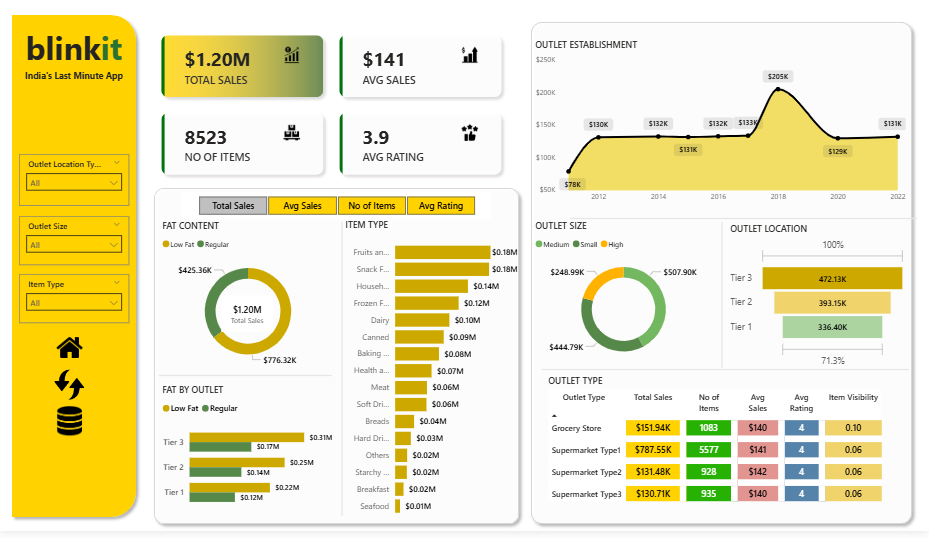

Layout of this report page (visuals, bound fields, positions):
{"tool":"powerbi","page":{"name":"Page 1","canvas":[1400,800],"ordinal":0},"visuals":[{"type":"shape","box":[10.5,15.1,204.7,773.8],"z":0},{"type":"textbox","box":[10.5,34.6,204.7,97.8],"z":1000},{"type":"textbox","box":[22.6,100.9,180.6,31.6],"z":2000},{"type":"cardVisual","fields":{"Data":["Blinkit Grocery Data.Total Sales","Blinkit Grocery Data.Average Sales","Blinkit Grocery Data.Item Count","Blinkit Grocery Data.Average Rating"]},"box":[215.3,25.6,570.5,269.5],"z":3000},{"type":"shape","box":[224.3,275.5,567.5,523.9],"z":4000},{"type":"donutChart","title":"FAT CONTENT","fields":{"Y":["Blinkit Grocery Data.Total Sales"],"Category":["Blinkit Grocery Data.Item Fat Content"]},"box":[240.9,332.7,268,230.3],"z":5000},{"type":"slicer","fields":{"Values":["Metrics.Metrics"]},"box":[275.5,290.5,465.2,40.6],"z":6000},{"type":"cardVisual","fields":{"Data":["Blinkit Grocery Data.Total Sales"]},"box":[330.2,440.7,88.7,65.5],"z":7000},{"type":"clusteredBarChart","title":"FAT BY OUTLET","fields":{"Y":["Blinkit Grocery Data.Total Sales"],"Category":["Blinkit Grocery Data.Outlet Location Type"],"Series":["Blinkit Grocery Data.Item Fat Content"]},"box":[241.5,578.9,267.6,199.3],"z":8000},{"type":"shape","box":[240.9,487.7,260.4,158.1],"z":9000},{"type":"shape","box":[412.5,335.7,207.7,442.6],"z":10000},{"type":"barChart","title":"ITEM TYPE","fields":{"Y":["Blinkit Grocery Data.Total Sales"],"Category":["Blinkit Grocery Data.Item Type"]},"box":[516.3,331.2,269.5,457.6],"z":11000},{"type":"shape","box":[791.8,25.6,591.6,773.8],"z":12000},{"type":"lineChart","title":"OUTLET ESTABLISHMENT","fields":{"Category":["Blinkit Grocery Data.Outlet Establishment Year"],"Y":["Blinkit Grocery Data.Total Sales"]},"box":[802.4,60.2,567.5,255.9],"z":13000},{"type":"shape","box":[859.6,251.4,522.4,158.1],"z":14000},{"type":"donutChart","title":"OUTLET SIZE","fields":{"Y":["Blinkit Grocery Data.Total Sales"],"Category":["Blinkit Grocery Data.Outlet Size"]},"box":[802.4,332.7,275.5,224.3],"z":15000},{"type":"shape","box":[984.5,335.7,207.7,219.8],"z":16000},{"type":"funnel","title":"OUTLET LOCATION","fields":{"Category":["Blinkit Grocery Data.Outlet Location Type"],"Y":["Sum(Blinkit Grocery Data.Sales)"]},"box":[1095.9,337.2,274,222.8],"z":17000},{"type":"shape","box":[817.4,478.7,552.5,158.1],"z":18000},{"type":"pivotTable","title":"OUTLET TYPE","fields":{"Rows":["Blinkit Grocery Data.Outlet Type"],"Values":["Blinkit Grocery Data.Total Sales","Blinkit Grocery Data.No of Items","Blinkit Grocery Data.Avg Sales","Blinkit Grocery Data.Avg Rating","Avg(Blinkit Grocery Data.Item Visibility)"]},"box":[821.9,566,535.9,212.3],"z":19000},{"type":"slicer","fields":{"Values":["Blinkit Grocery Data.Outlet Location Type"]},"box":[30.1,233.3,165.6,78.3],"z":20000},{"type":"slicer","fields":{"Values":["Blinkit Grocery Data.Outlet Size"]},"box":[30.1,326.7,165.6,73.8],"z":21000},{"type":"slicer","fields":{"Values":["Blinkit Grocery Data.Item Type"]},"box":[30.1,414,165.6,73.8],"z":22000},{"type":"image","box":[81.3,499.8,50,50],"z":23000},{"type":"image","box":[81.3,555.5,49.7,49.7],"z":24000},{"type":"image","box":[81.3,611.2,49.7,49.7],"z":25000}]}

Visuals, with their boxes in screenshot pixels (x1, y1, x2, y2), scaled from the page's 1400x800 canvas onto the 929x538 screenshot:
shape: <region>7, 10, 143, 531</region>
textbox: <region>7, 23, 143, 89</region>
textbox: <region>15, 68, 135, 89</region>
cardVisual - Blinkit Grocery Data.Total Sales x Blinkit Grocery Data.Average Sales: <region>143, 17, 521, 198</region>
shape: <region>149, 185, 525, 537</region>
"FAT CONTENT" donutChart: <region>160, 224, 338, 379</region>
slicer - Metrics.Metrics: <region>183, 195, 492, 223</region>
cardVisual - Blinkit Grocery Data.Total Sales: <region>219, 296, 278, 340</region>
"FAT BY OUTLET" clusteredBarChart: <region>160, 389, 338, 523</region>
shape: <region>160, 328, 333, 434</region>
shape: <region>274, 226, 412, 523</region>
"ITEM TYPE" barChart: <region>343, 223, 521, 530</region>
shape: <region>525, 17, 918, 537</region>
"OUTLET ESTABLISHMENT" lineChart: <region>532, 40, 909, 213</region>
shape: <region>570, 169, 917, 275</region>
"OUTLET SIZE" donutChart: <region>532, 224, 715, 375</region>
shape: <region>653, 226, 791, 374</region>
"OUTLET LOCATION" funnel: <region>727, 227, 909, 377</region>
shape: <region>542, 322, 909, 428</region>
"OUTLET TYPE" pivotTable: <region>545, 381, 901, 523</region>
slicer - Blinkit Grocery Data.Outlet Location Type: <region>20, 157, 130, 210</region>
slicer - Blinkit Grocery Data.Outlet Size: <region>20, 220, 130, 269</region>
slicer - Blinkit Grocery Data.Item Type: <region>20, 278, 130, 328</region>
image: <region>54, 336, 87, 370</region>
image: <region>54, 374, 87, 407</region>
image: <region>54, 411, 87, 444</region>
